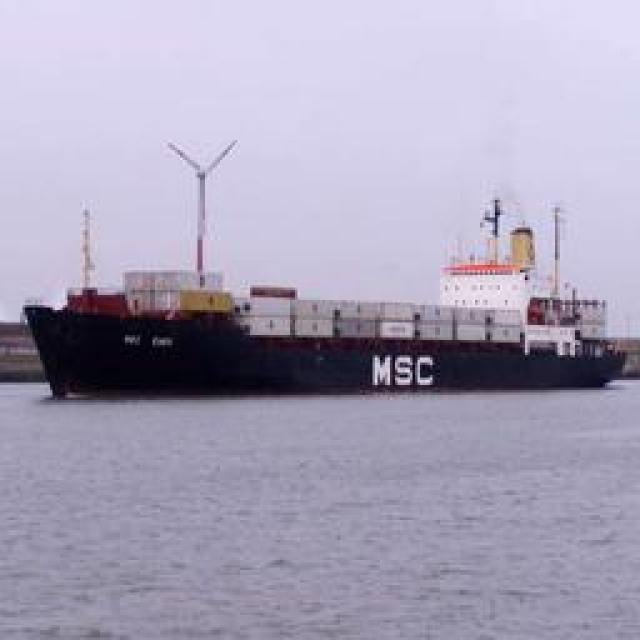CIV_Ship: (22, 156, 640, 396)
